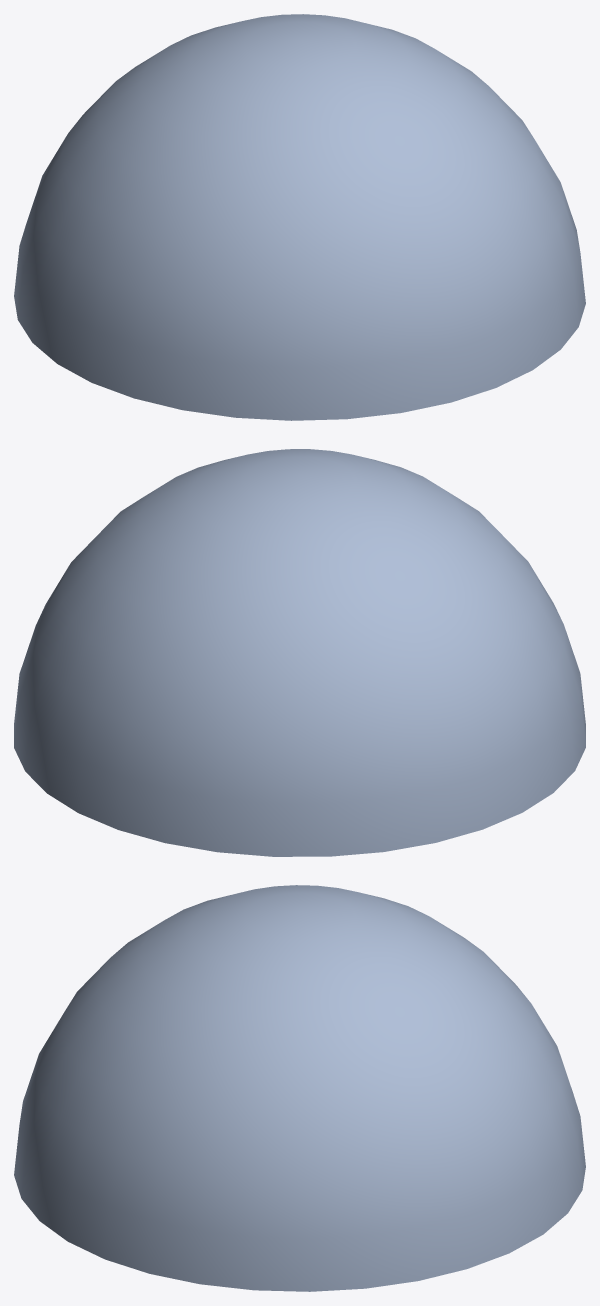
File: mars_scene (1).fbx
3 renders of one model, top to bottom at view 1: azimuth 30°, elevation 25°; view 2: azimuth 150°, elevation 25°; view 3: azimuth 270°, elevation 25°, orthographic.
Visible parts, largest first — view 1: Sphere; view 2: Sphere; view 3: Sphere.
Part boxes in pixels (x1,y1,x2,y2): Sphere: (14,14,585,420); Sphere: (14,449,585,856); Sphere: (14,885,585,1291).
Size of the model in its own units: 192 by 95.89 by 192.
